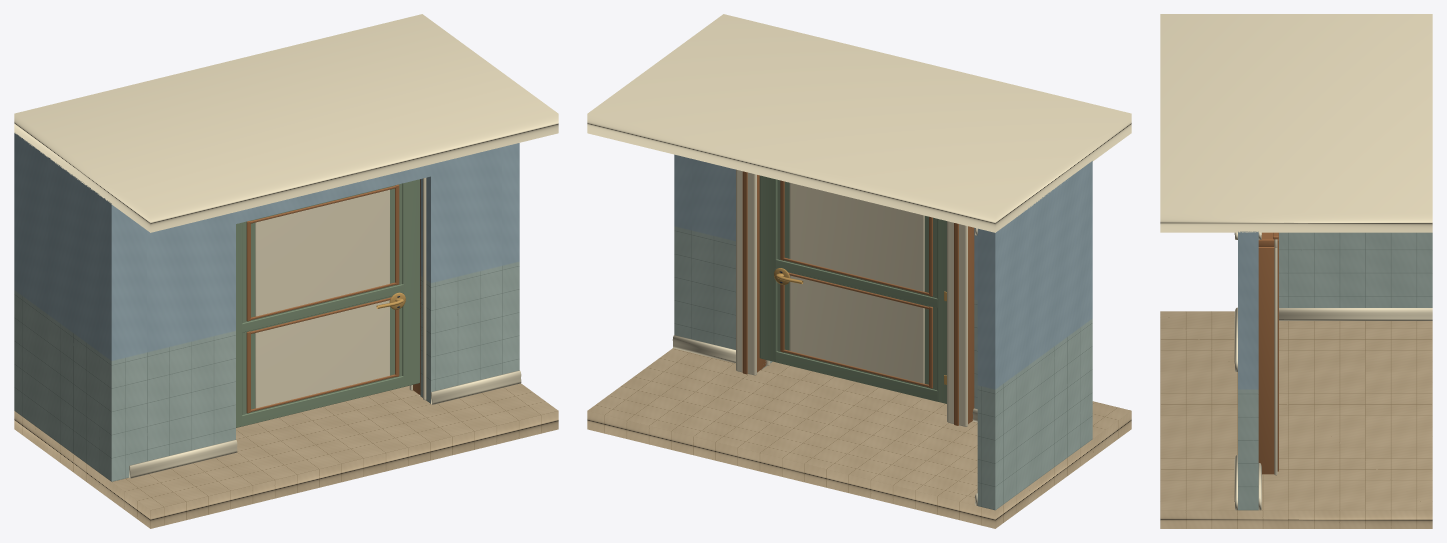
File: portal_sutil.glb
3 renders of one model, left to right at view 1: azimuth 30°, elevation 25°; view 2: azimuth 150°, elevation 25°; view 3: azimuth 270°, elevation 25°, orthographic.
Parts seen in each view (by area): view 1: Walls, Ceiling, Leaf, Floor, Trim, Frame; view 2: Ceiling, Walls, Floor, Leaf, Frame, Trim; view 3: Ceiling, Floor, Walls, Frame, Trim.
Part boxes in pixels (left/top/right/bottom): Walls: left=14, top=133, right=519, bottom=481; Ceiling: left=14, top=14, right=558, bottom=232; Leaf: left=236, top=179, right=419, bottom=427; Floor: left=14, top=383, right=558, bottom=528; Trim: left=129, top=370, right=521, bottom=478; Frame: left=409, top=178, right=426, bottom=400; Ceiling: left=587, top=14, right=1131, bottom=232; Walls: left=674, top=154, right=1092, bottom=510; Floor: left=587, top=348, right=1131, bottom=528; Leaf: left=759, top=175, right=946, bottom=403; Frame: left=736, top=169, right=974, bottom=426; Trim: left=672, top=228, right=977, bottom=505; Ceiling: left=1160, top=14, right=1432, bottom=232; Floor: left=1160, top=311, right=1432, bottom=528; Walls: left=1238, top=231, right=1432, bottom=510; Frame: left=1258, top=232, right=1278, bottom=475; Trim: left=1234, top=232, right=1432, bottom=510.
Bounding box in the file's own units: 4.6 × 3.4 × 2.66.
7 materials, 2 textured.
